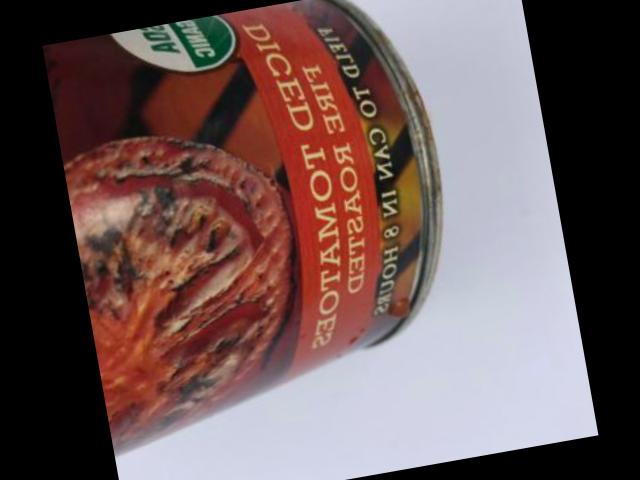metal: (42, 0, 442, 454)
